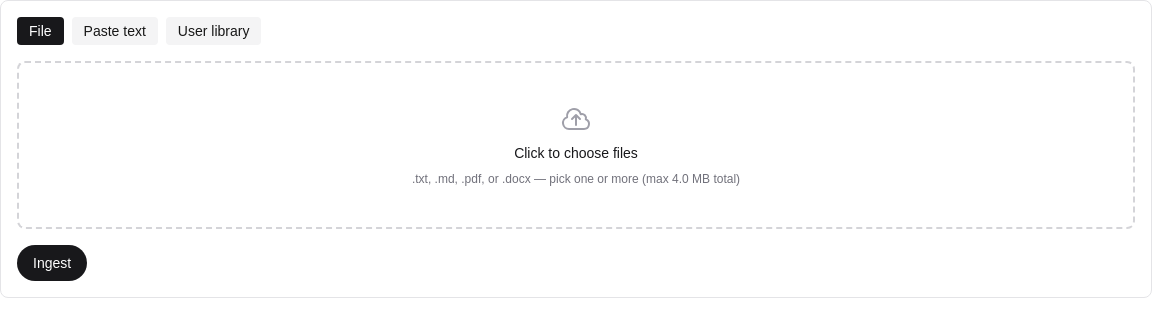
Test: FileUpload › library mode: toggling rows drives the count, and Ingest posts the picked ids as JSON
Click the button "User library".
click(214, 31)  # box [166,17,261,45]
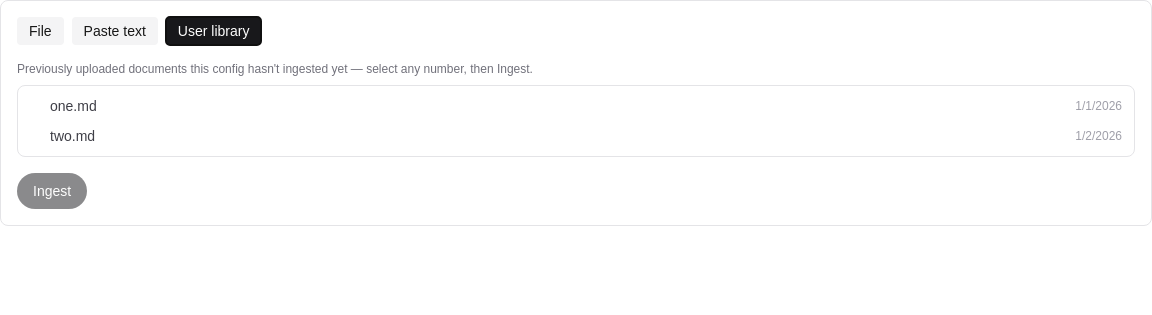
Click the button "✓ one.md 1/1/2026".
click(73, 106)  # box [24,92,1128,120]
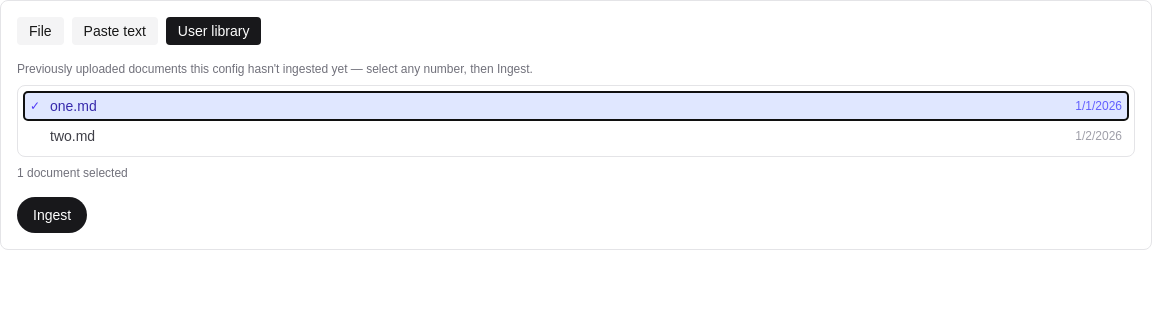
Click the button "✓ two.md 1/2/2026".
click(73, 136)  # box [24,122,1128,150]
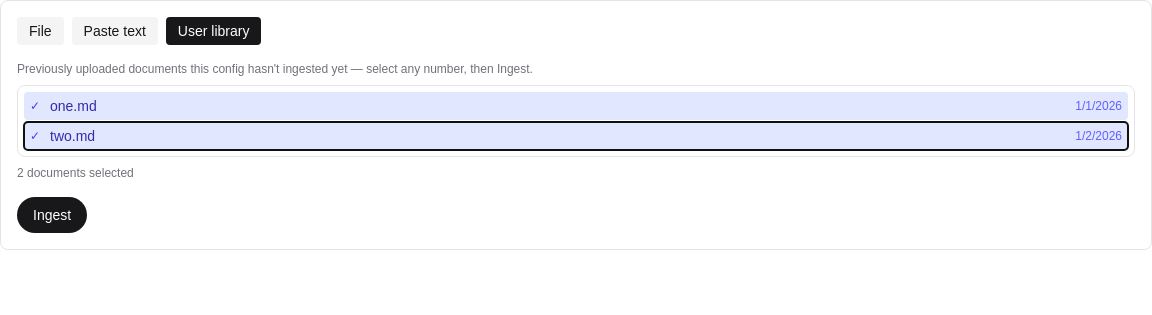
Check: the text "2 documents selected" is shown, box [17,166,134,180]
Click the button "✓ two.md 1/2/2026".
click(73, 136)  # box [24,122,1128,150]
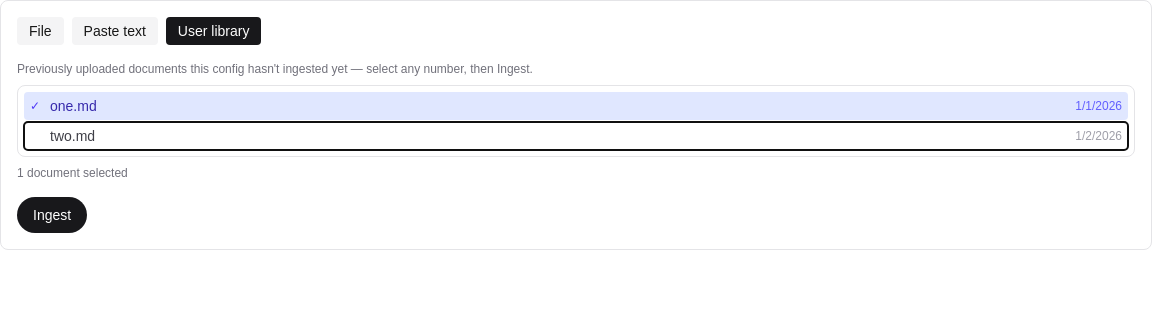
Check: the text "1 document selected" is shown, box [17,166,128,180]
Click the button "Ingest".
click(52, 215)  # box [17,197,87,233]
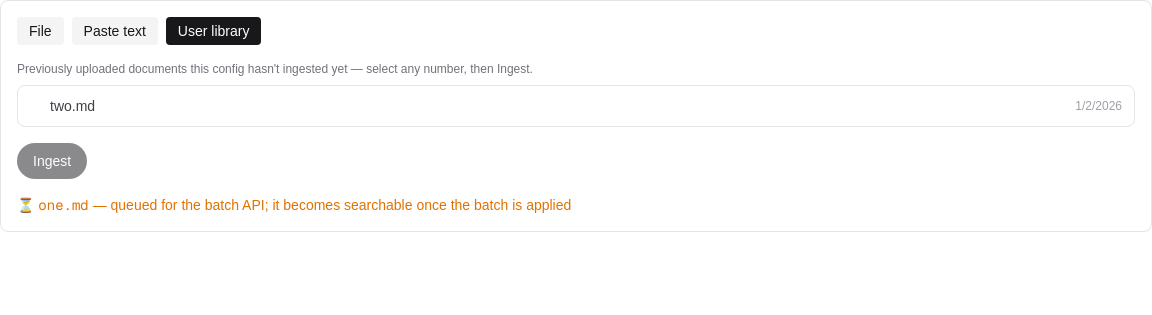
Check: the list item "queued for the batch API" shows "one.md", box [38,196,89,214]
Check: the text "1 document selected" is gone
